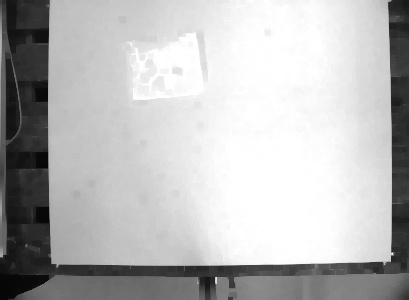t3: (123, 27, 212, 105)
